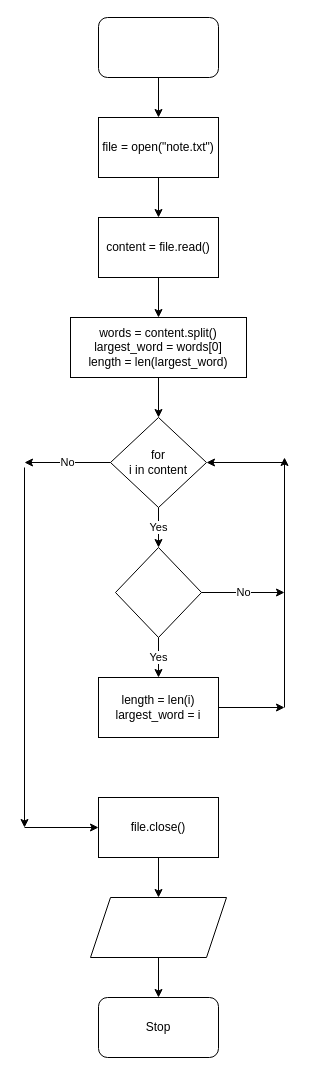
Some shapes in this 310 by 1075 pixel diagram are drawn without their labels. The shapes that lost their labels are listed below. From the top down, each one's box as (x1, y1, x2, y2) in pixels, then its label:
(98, 16, 218, 78): Start
(114, 546, 202, 638): if len(i) > length
(90, 896, 226, 958): print largest_word
